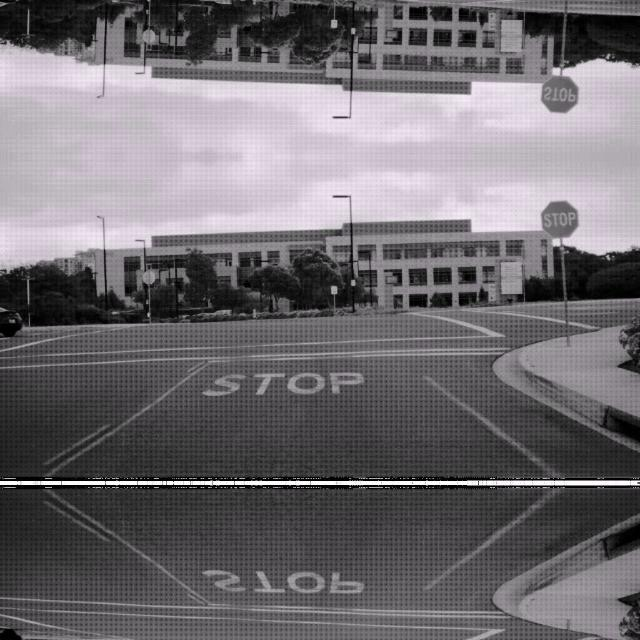stop: (540, 198, 578, 238), (540, 74, 578, 114)
